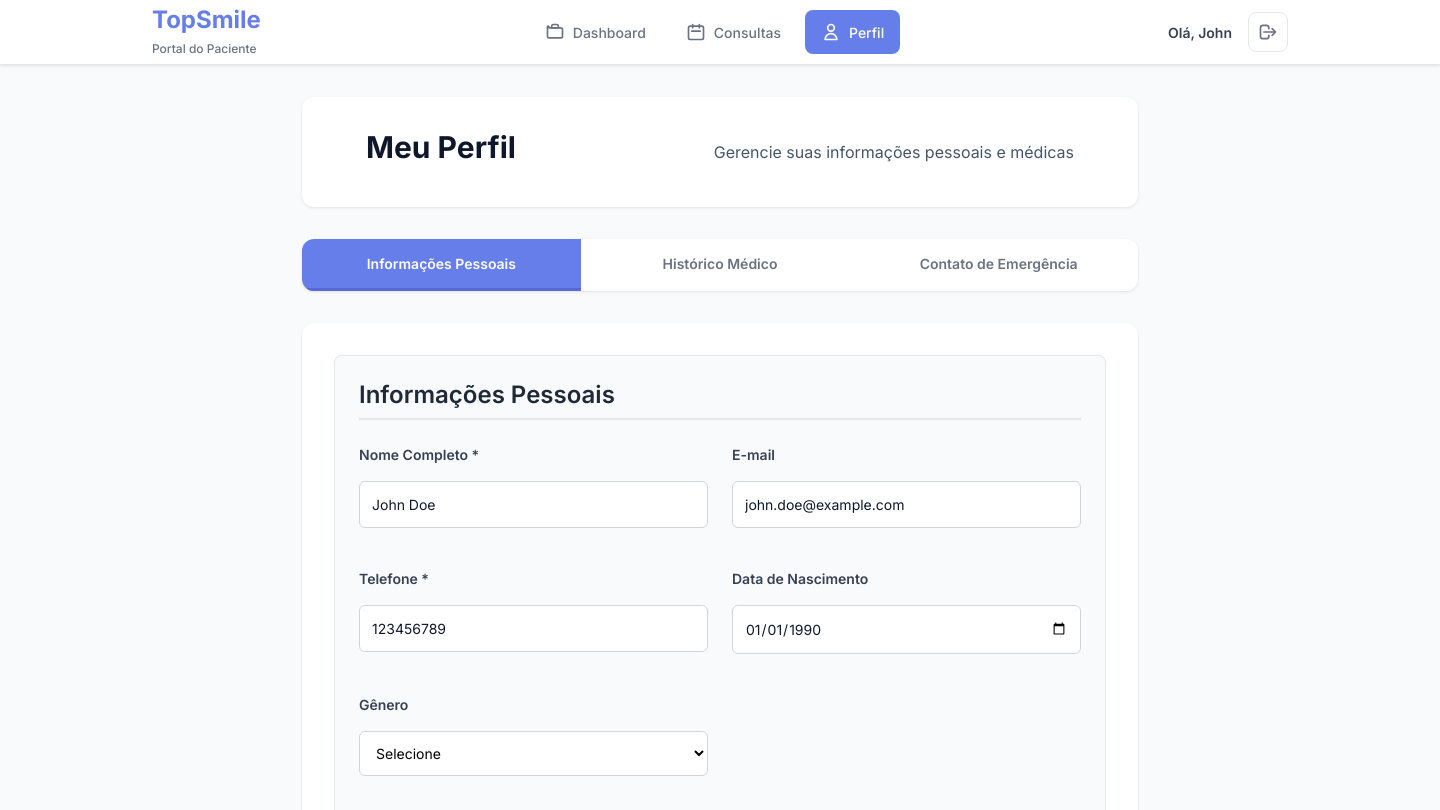
Test: PatientProfile › adds and removes medical history items
Check: the field labelled "Nome Completo *" is shown, box [359,480,708,528]
Click the button "Histórico Médico": click(720, 264) [581,238,859,290]
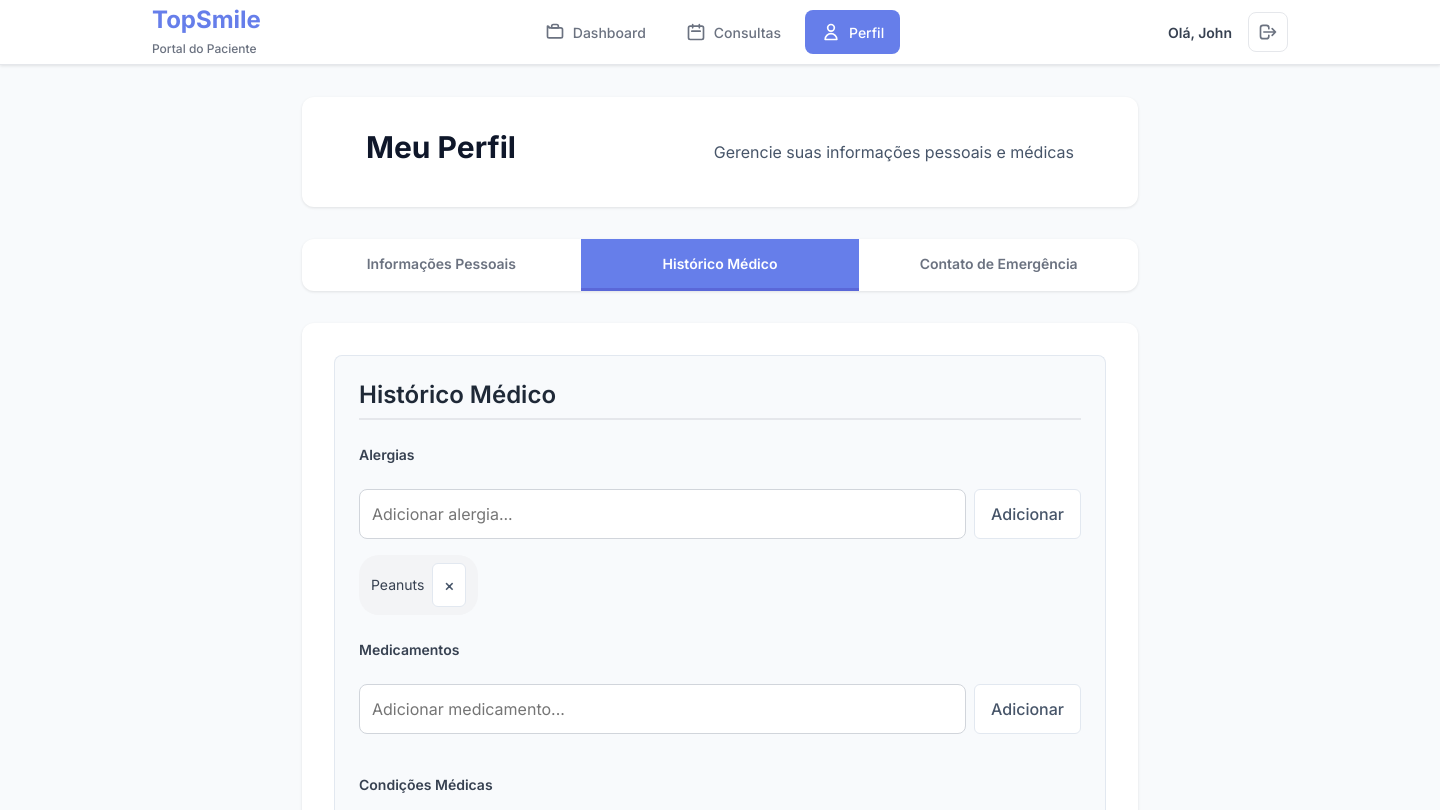
In the field with placeholder "Adicionar alergia...": (662, 514) [359,488,966,538], type "Pollen"
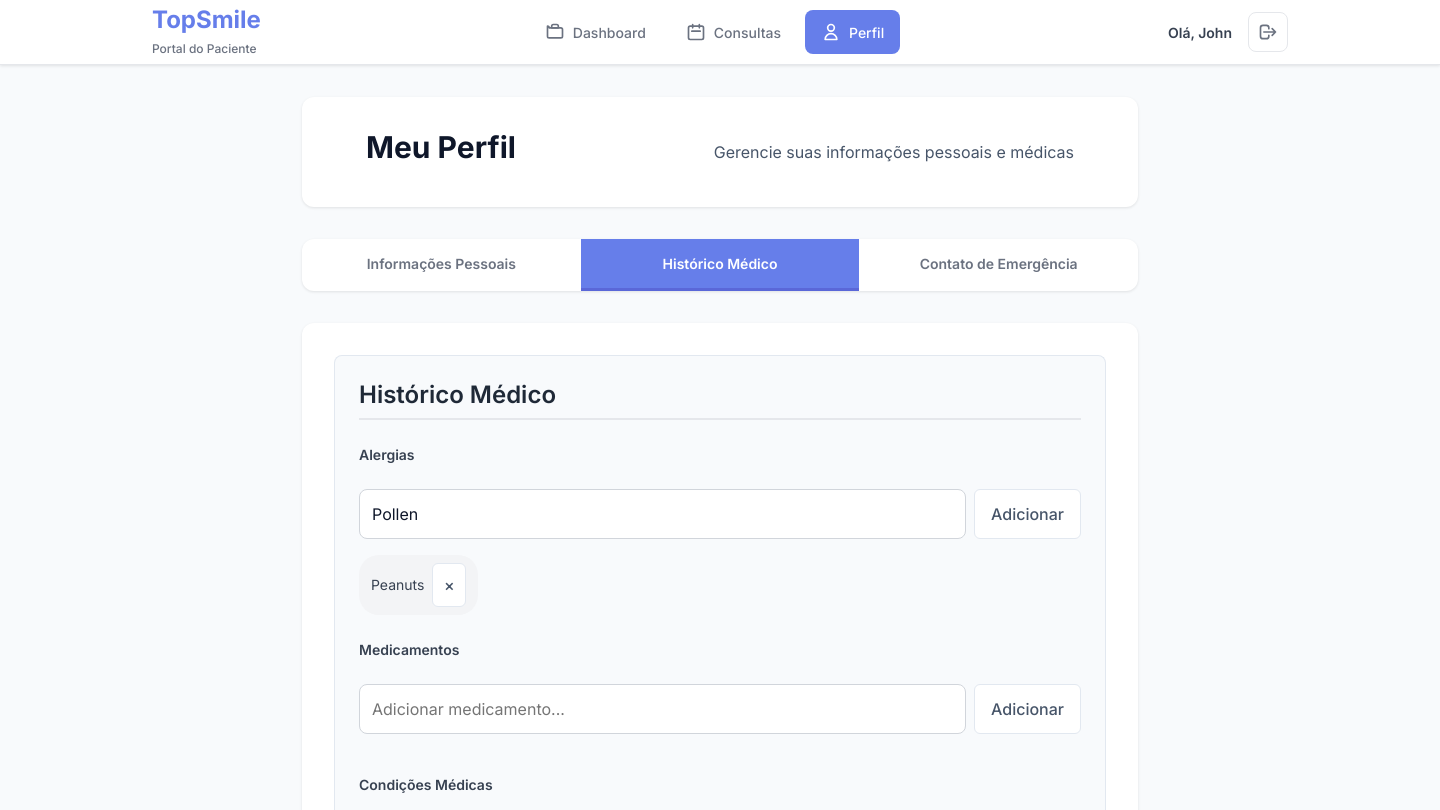
Click the 1st button "Adicionar": click(1028, 514) [974,488,1081,538]
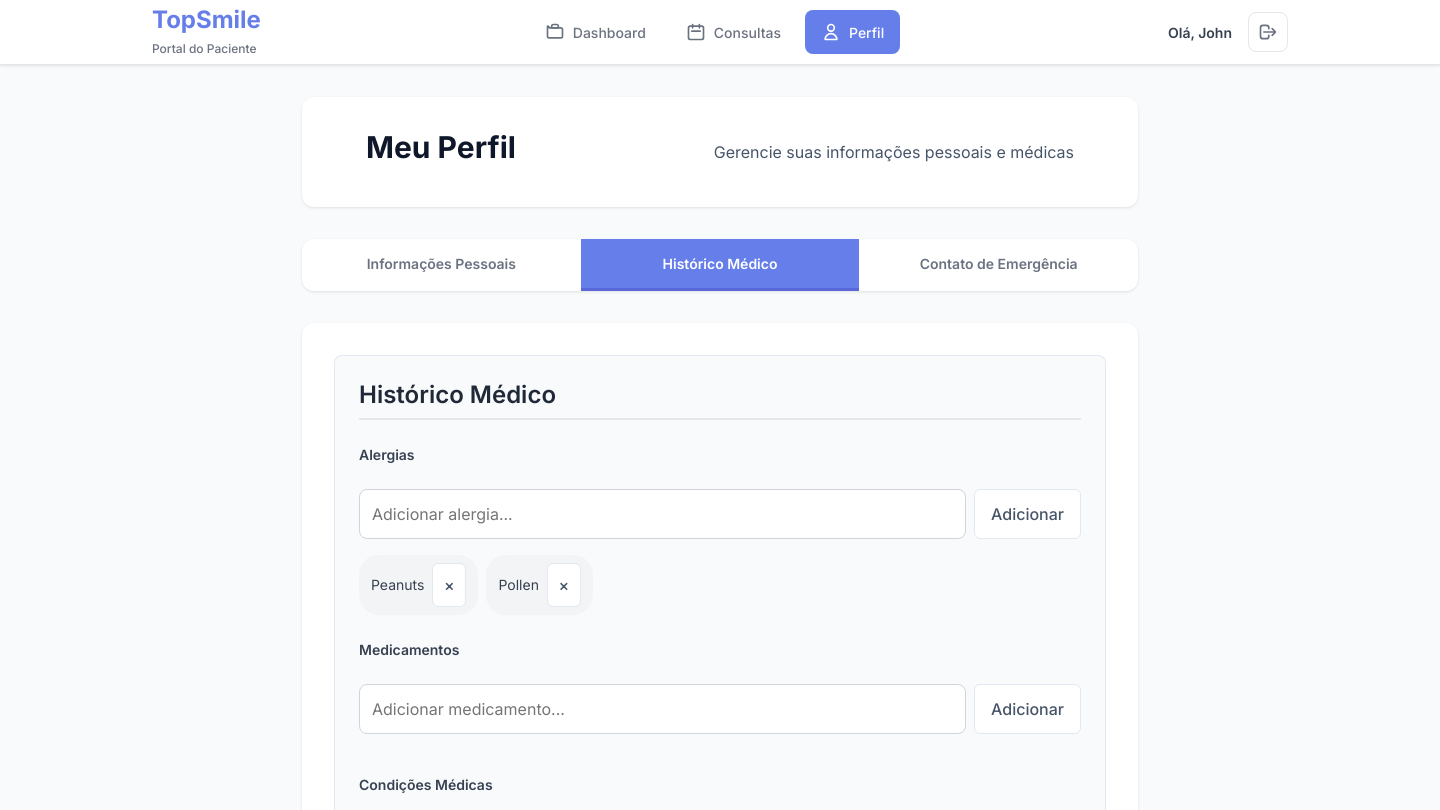
Check: the text "Pollen" is shown, box [498,576,539,593]
Click the button "×" next to "Peanuts": click(449, 584) [432,562,466,606]
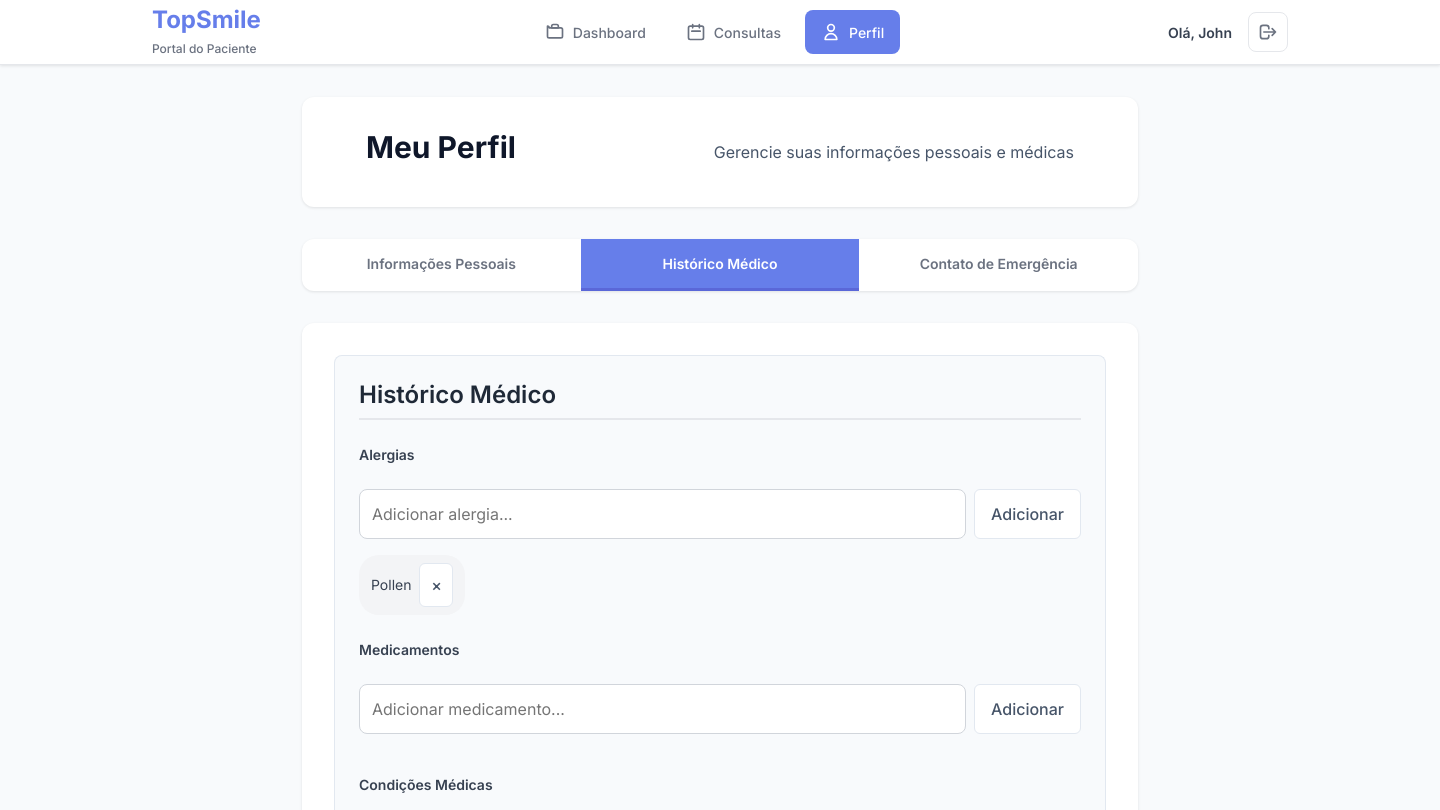
Check: the text "Peanuts" is gone
